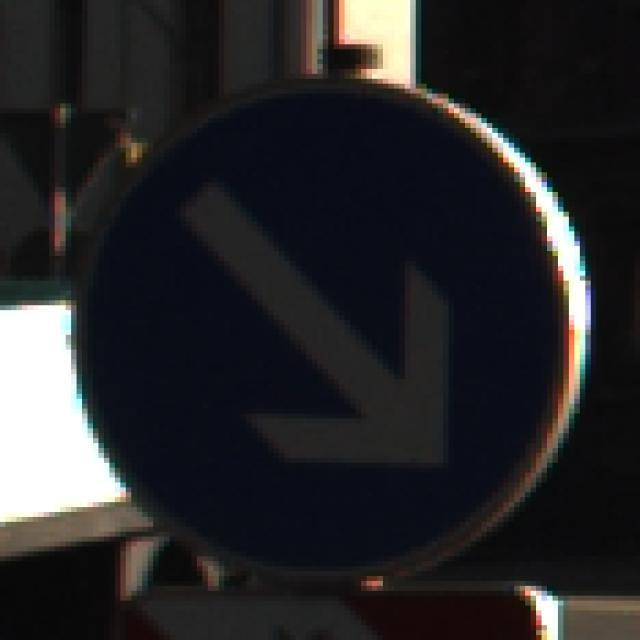compulsary keep right: (61, 69, 596, 586)
